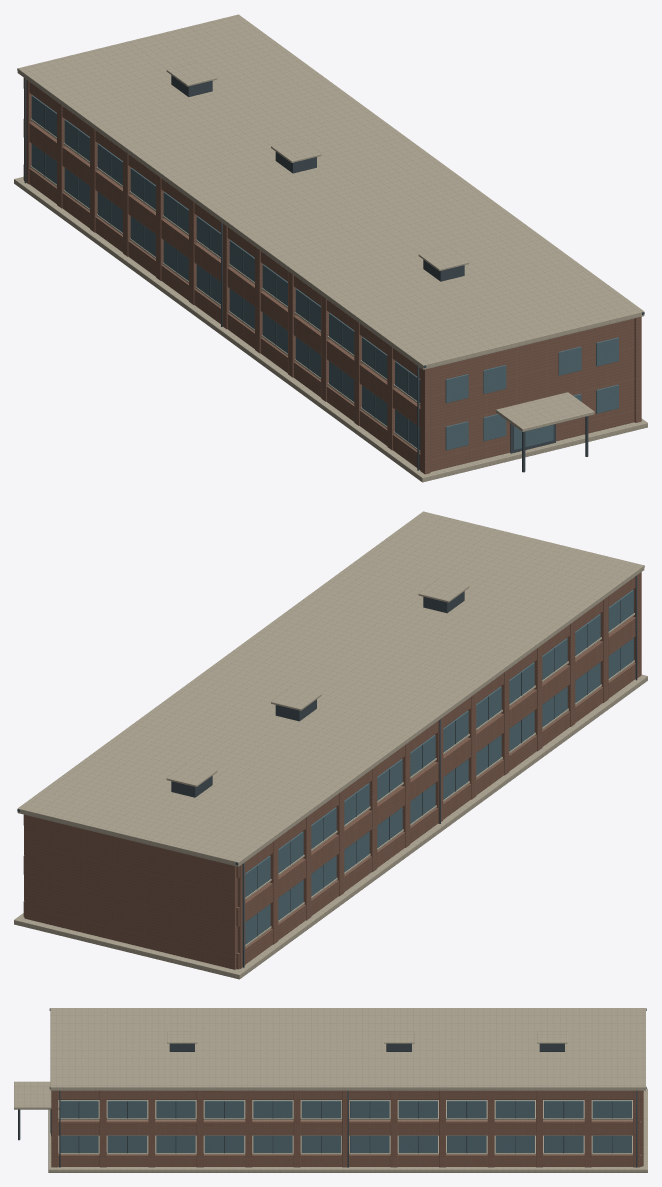
File: ENV_HospitalExterior.glb
3 renders of one model, top to bottom at view 1: azimuth 30°, elevation 25°; view 2: azimuth 150°, elevation 25°; view 3: azimuth 270°, elevation 25°, orthographic. The views are drawn at different scales.
Visible parts, largest first — view 1: Hospital_Facade; view 2: Hospital_Facade; view 3: Hospital_Facade.
Boxes of the visible parts, bbox=[...] form: Hospital_Facade: bbox=[14, 14, 647, 482]; Hospital_Facade: bbox=[14, 511, 647, 979]; Hospital_Facade: bbox=[14, 1008, 647, 1172].
Size of what is drawn, in the model's own units: 15 by 8.26 by 49.7.
4 materials, 4 textured.
